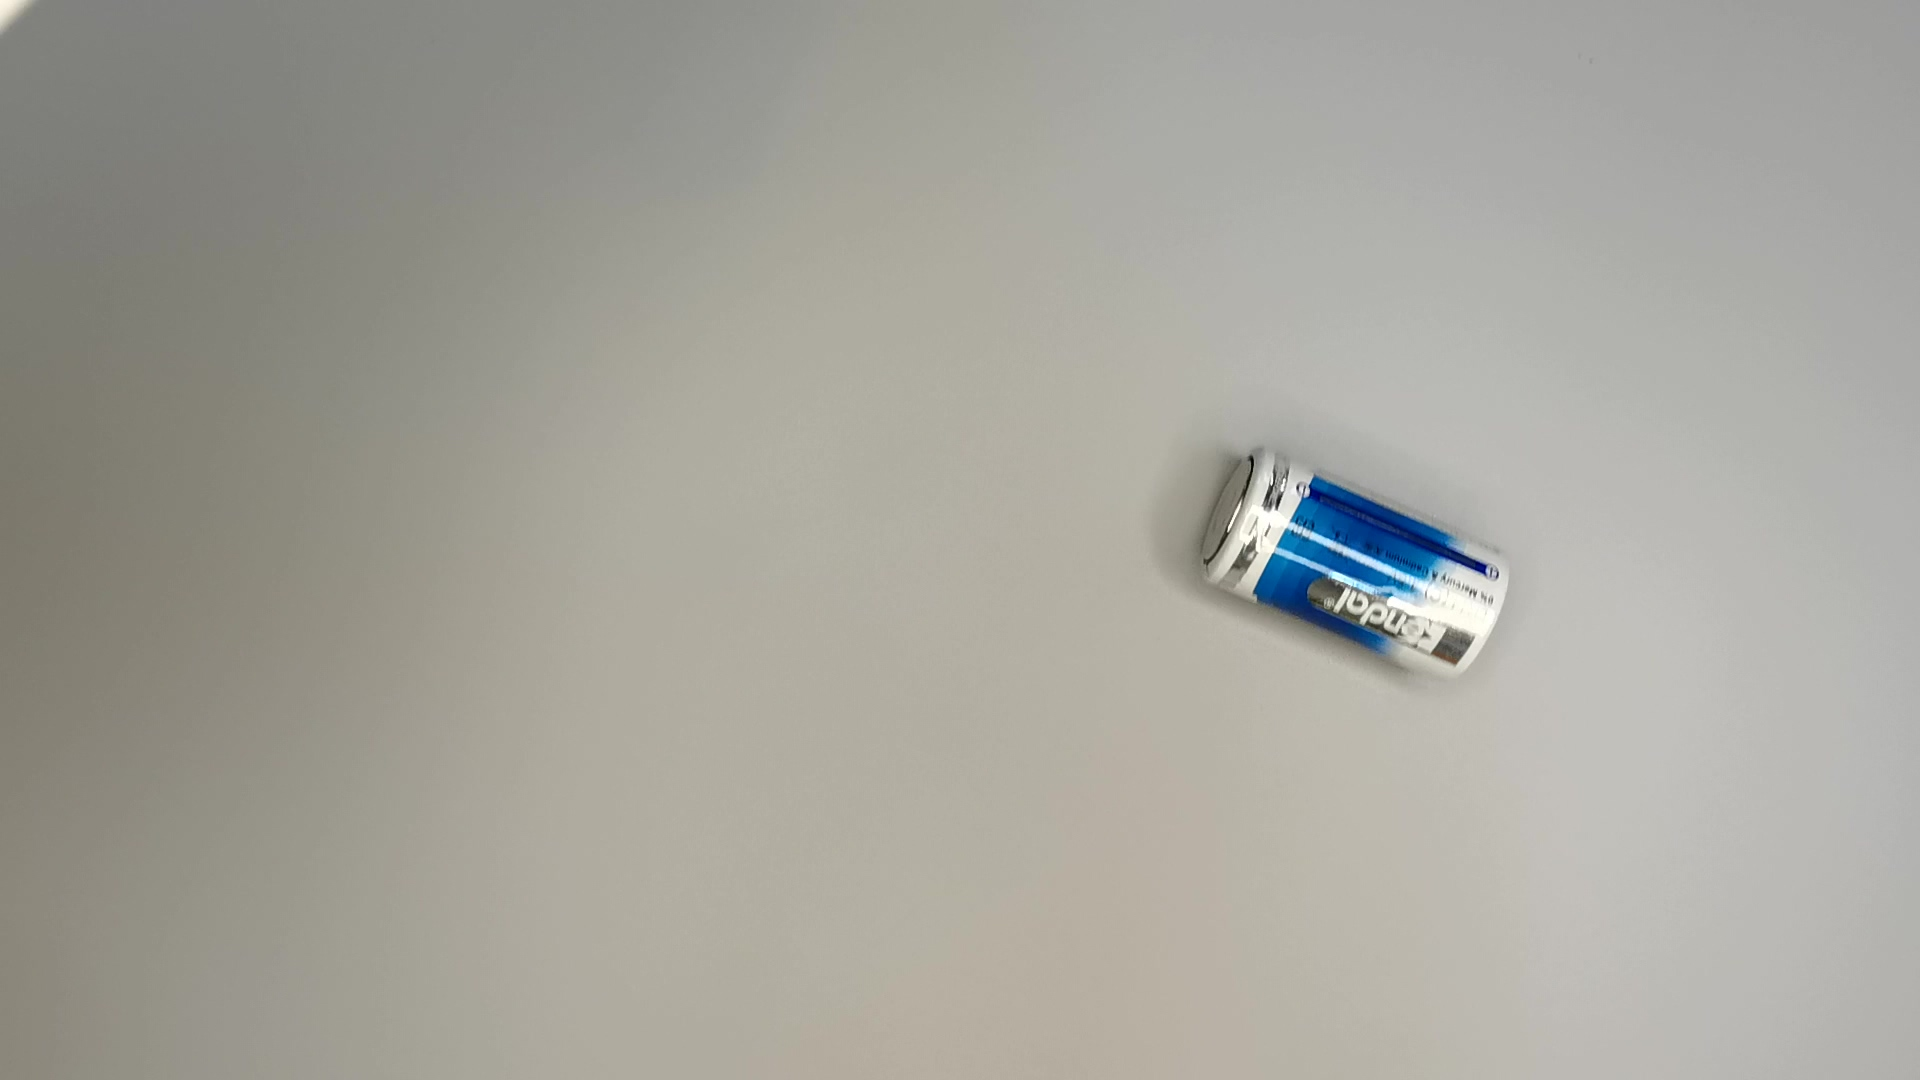battery: (1195, 440, 1522, 688)
